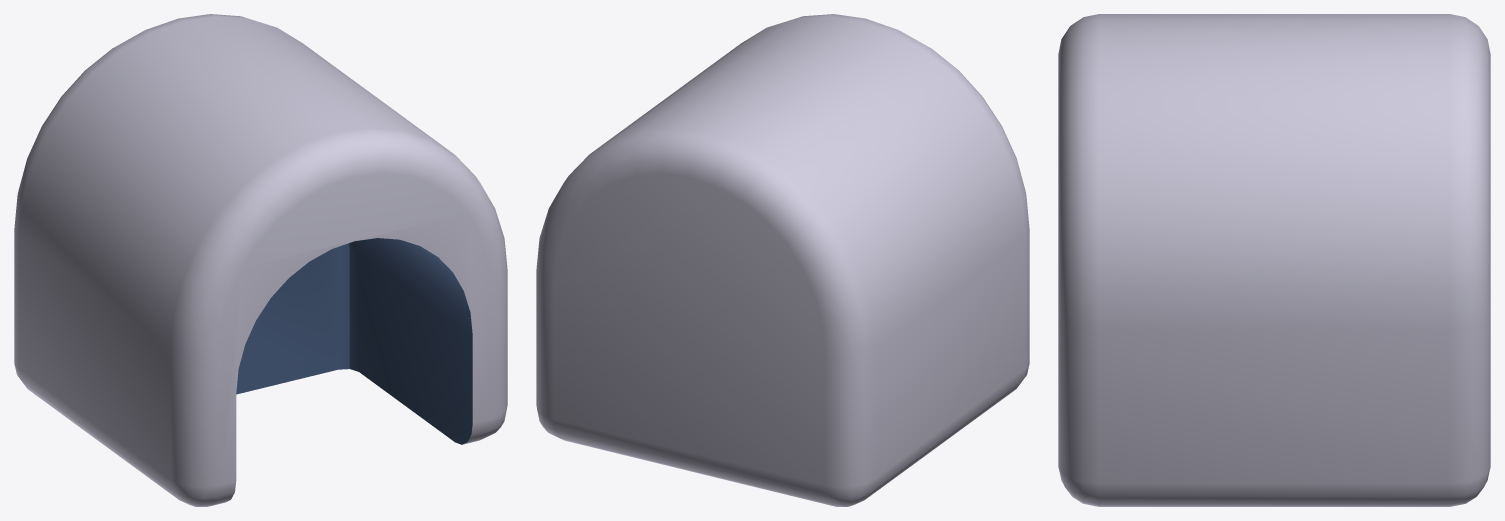
The model's file is Kit_Tunnel.fbx.
3 renders of one model, left to right at view 1: azimuth 30°, elevation 25°; view 2: azimuth 150°, elevation 25°; view 3: azimuth 270°, elevation 25°, orthographic. The views are drawn at different scales.
Visible parts, largest first — view 1: Kit_Tunnel; view 2: Kit_Tunnel; view 3: Kit_Tunnel.
Boxes of the visible parts, left/top/right/bottom form: Kit_Tunnel: left=14, top=14, right=507, bottom=506; Kit_Tunnel: left=536, top=14, right=1029, bottom=506; Kit_Tunnel: left=1058, top=14, right=1490, bottom=506.
Size of the model in its own units: 0.76 by 0.74 by 0.74.
